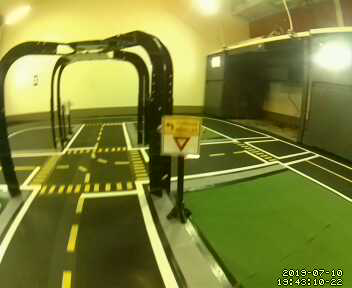Turn Yield: (159, 116, 200, 158)
